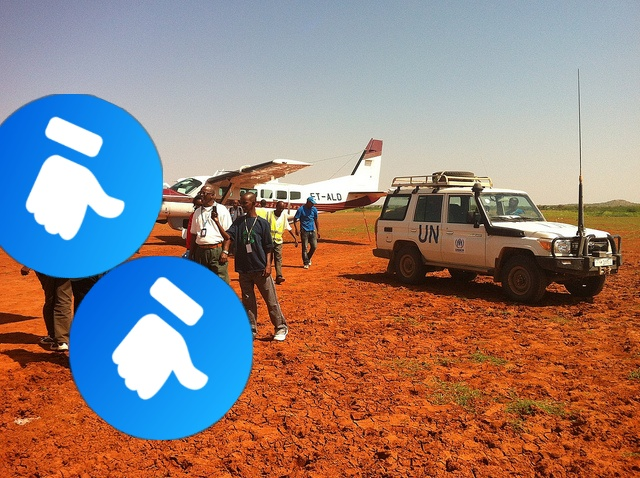like: (69, 256, 253, 440), (0, 94, 163, 278)
